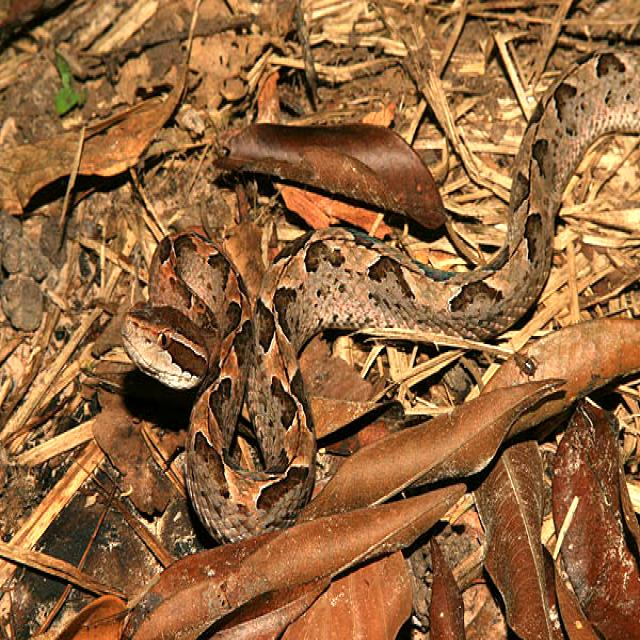Calloselasma rhodostoma: (123, 52, 639, 540)
snake: (123, 52, 639, 540)
